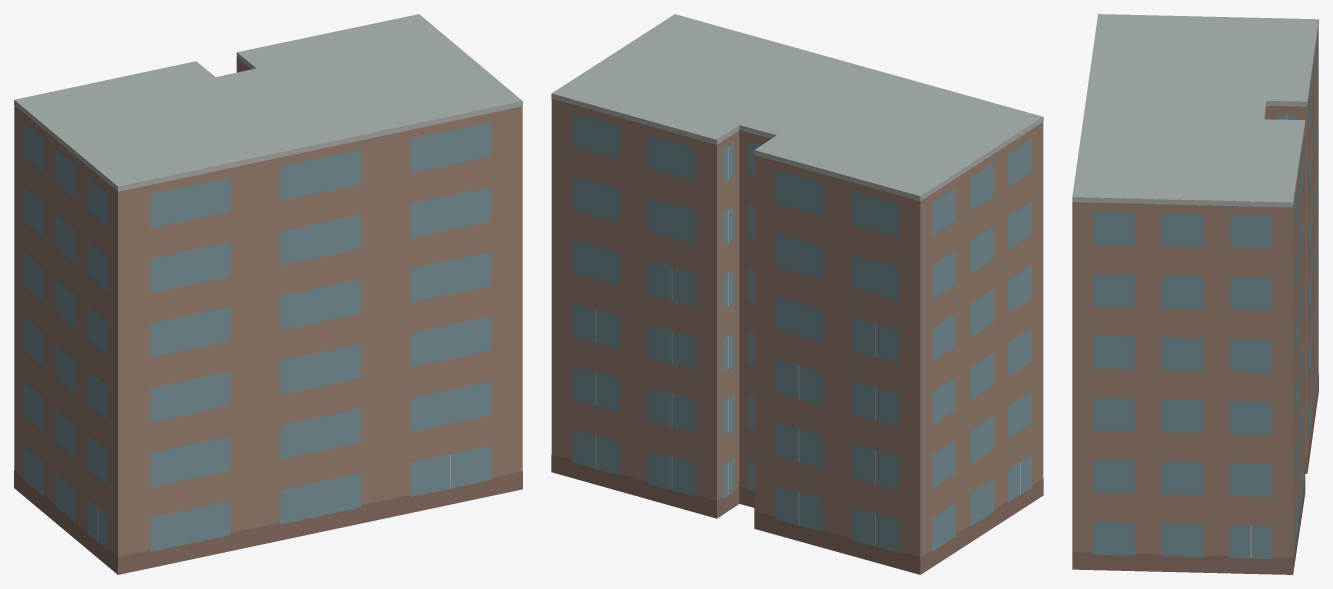
File: survey-upis-32984511.glb
3 views of the same model, side by side, from view 1: azimuth 30°, elevation 25°; view 2: azimuth 150°, elevation 25°; view 3: azimuth 270°, elevation 25° (orthographic). The views are drawn at different scales.
Parts seen in each view (by area): view 1: survey-upis-32984511.tmp; view 2: survey-upis-32984511.tmp; view 3: survey-upis-32984511.tmp.
Part boxes in pixels (x1,y1,x2,y2): survey-upis-32984511.tmp: [14, 14, 522, 574]; survey-upis-32984511.tmp: [551, 14, 1043, 574]; survey-upis-32984511.tmp: [1072, 14, 1318, 574].
Size of the model in its own units: 19.88 by 18.3 by 10.99.
